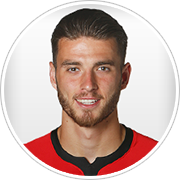smile: (74, 96, 102, 108)
